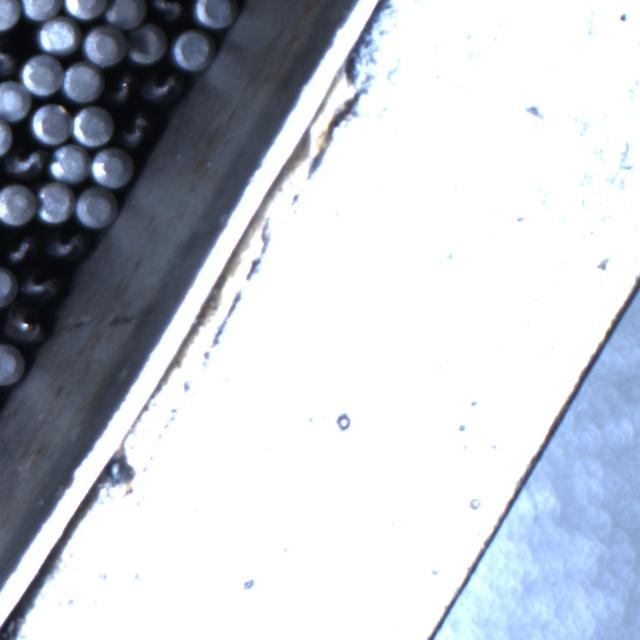tool: (170, 28, 213, 71), (82, 24, 126, 66), (19, 54, 62, 95), (89, 147, 131, 188), (73, 103, 115, 144), (76, 185, 117, 227), (39, 15, 82, 54), (46, 143, 89, 182), (62, 62, 103, 102), (30, 102, 70, 143), (35, 181, 74, 223), (127, 23, 166, 64), (0, 183, 37, 226), (0, 80, 30, 120), (192, 0, 237, 26), (104, 0, 145, 28), (0, 341, 23, 383), (20, 0, 61, 19), (63, 0, 106, 17), (0, 265, 16, 307), (0, 0, 21, 29), (0, 115, 13, 156)
tool_b: (118, 109, 156, 149), (44, 228, 87, 263), (6, 306, 46, 343), (139, 71, 180, 106), (3, 146, 44, 181), (18, 268, 58, 302), (107, 70, 138, 106), (3, 232, 36, 265), (149, 0, 190, 22)
void: (0, 20, 38, 58)
